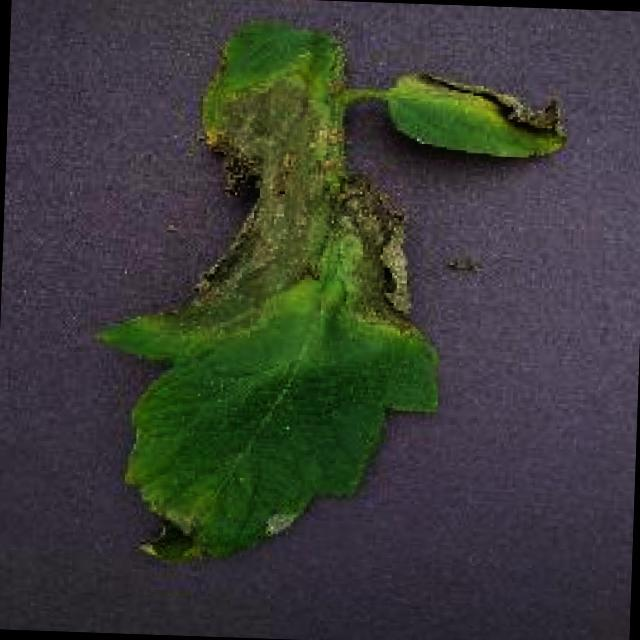Tomato late blight leaf: (86, 18, 450, 586), (387, 67, 574, 167)
